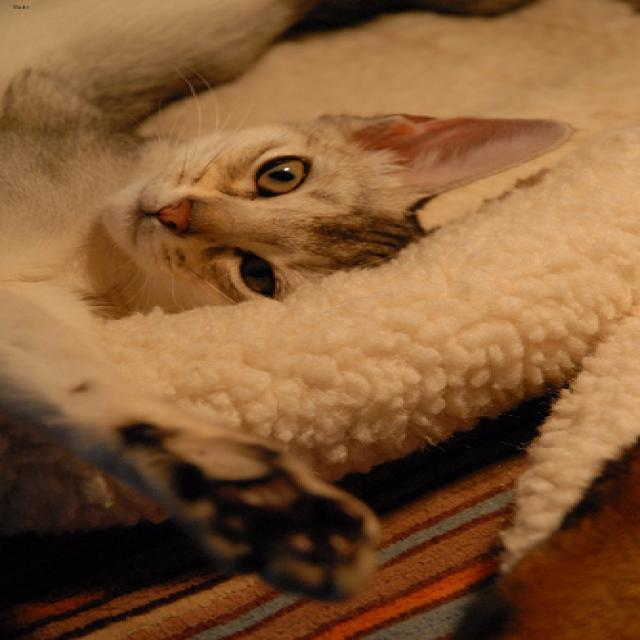Abyssinian: (96, 96, 574, 314)
